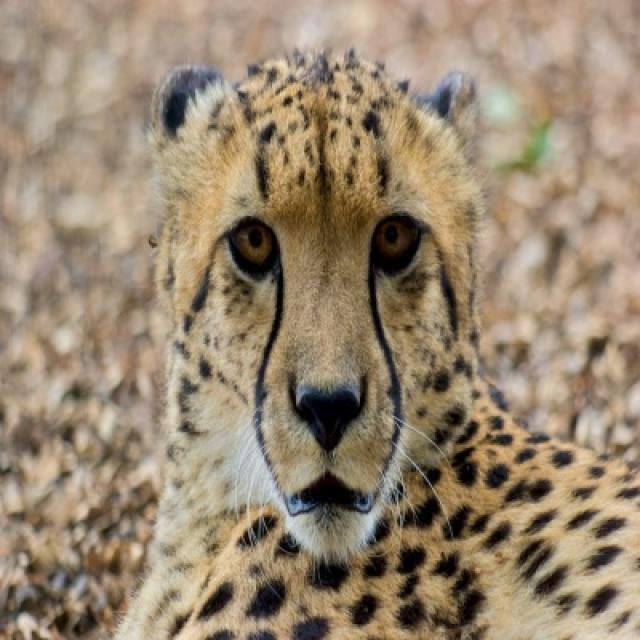Cheetah: (109, 48, 638, 638)
